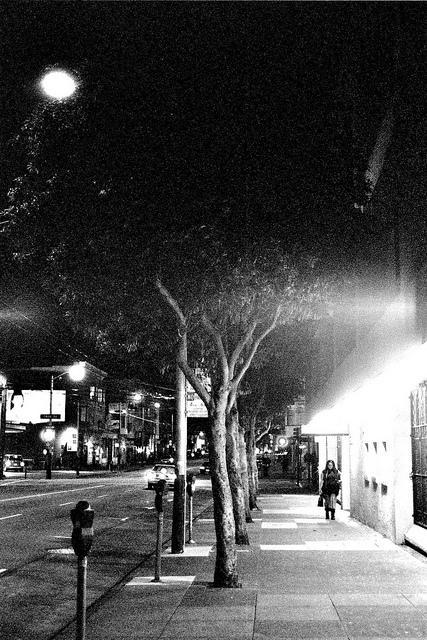car: (147, 464, 177, 490), (187, 450, 211, 476), (3, 453, 26, 472), (160, 450, 176, 464), (24, 459, 34, 472)
